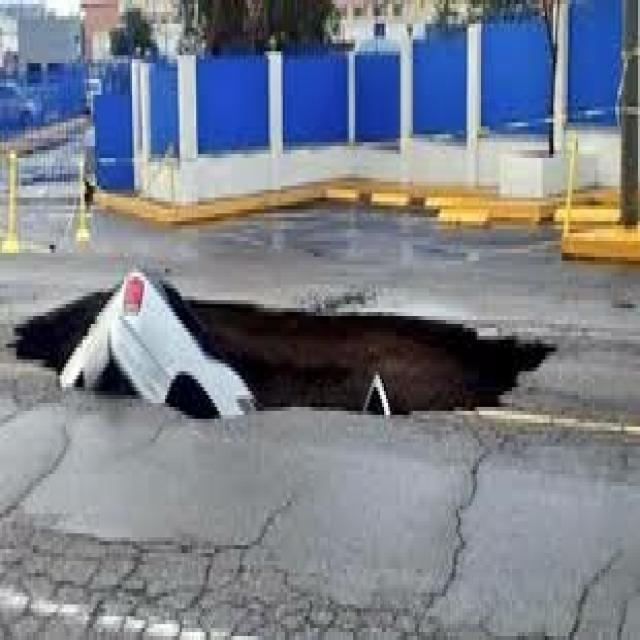Buraco: (0, 279, 566, 423)
